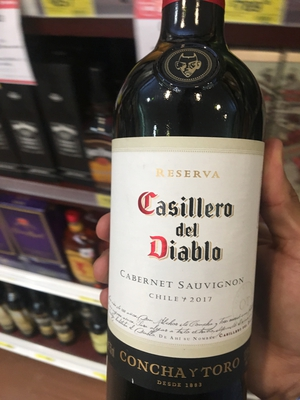casillero del diablo cabernet sauvignon: (102, 11, 262, 400)
